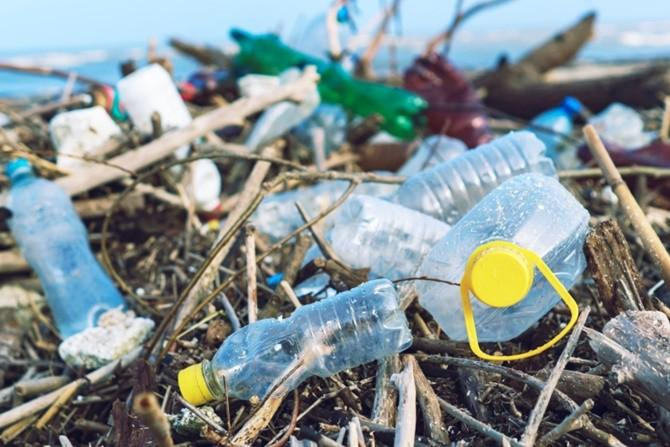HDPE: (459, 239, 580, 361), (177, 361, 216, 409)
PETE: (413, 174, 589, 340), (202, 278, 414, 402), (7, 158, 127, 339)
